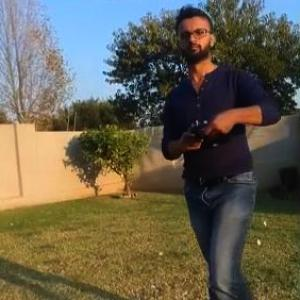follow: (153, 3, 283, 299)
